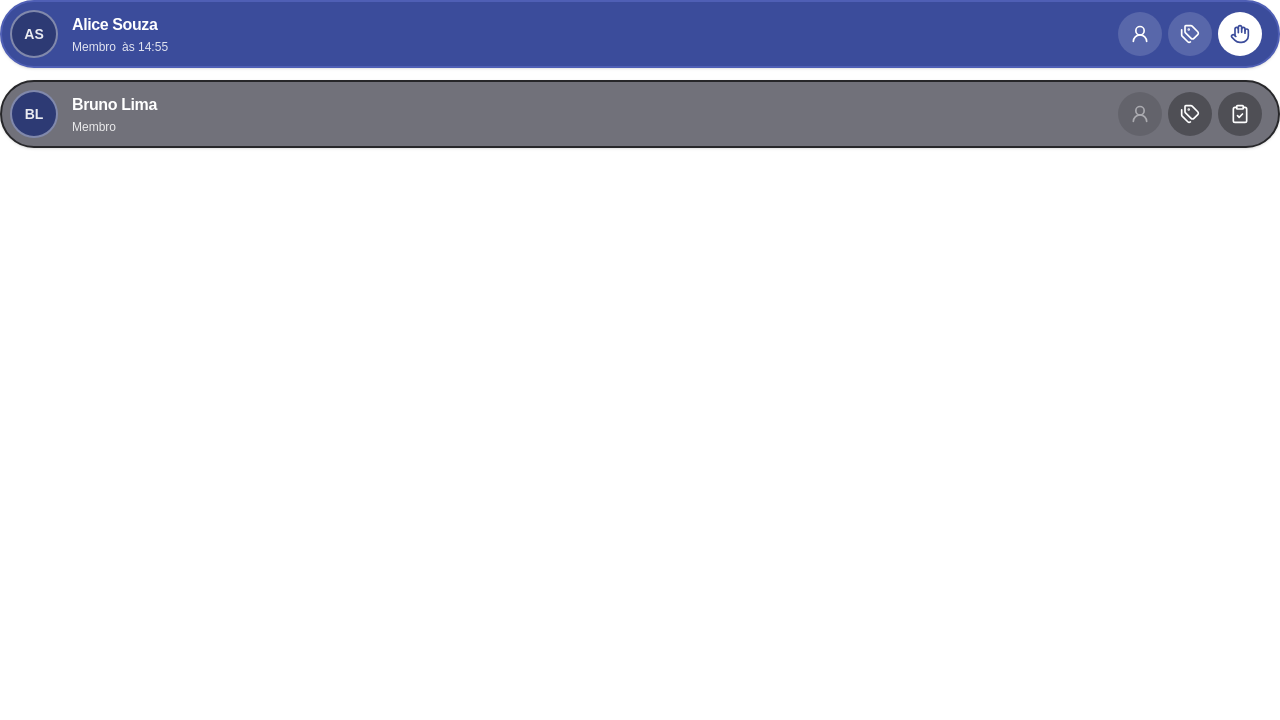
Test: [US09] Integração do AttendancePanel › Deve exibir a recusa do backend e manter o status salvo quando o usuário não é o tutor da sala
Click the button named "Presença de Alice Souza: Presente": (1240, 34) left=1218, top=12, right=1262, bottom=56
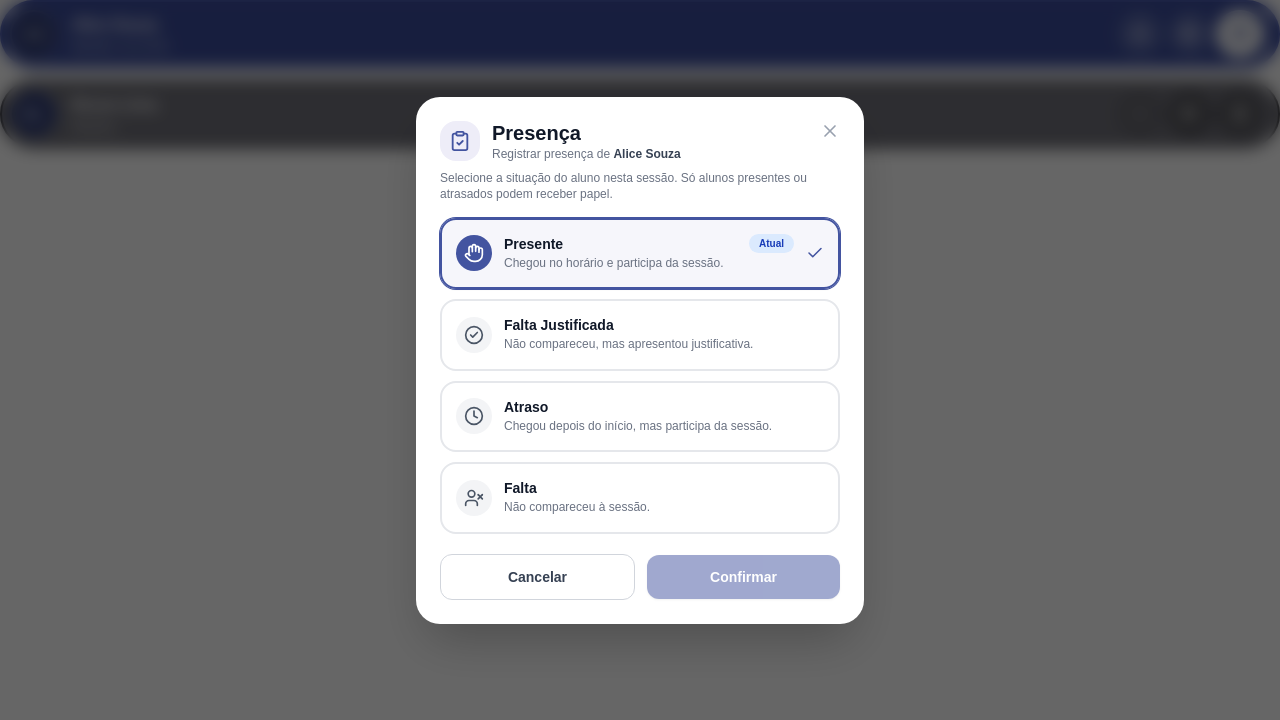
Click the button "Falta Não compareceu à sessão.": (640, 498) left=440, top=462, right=840, bottom=534
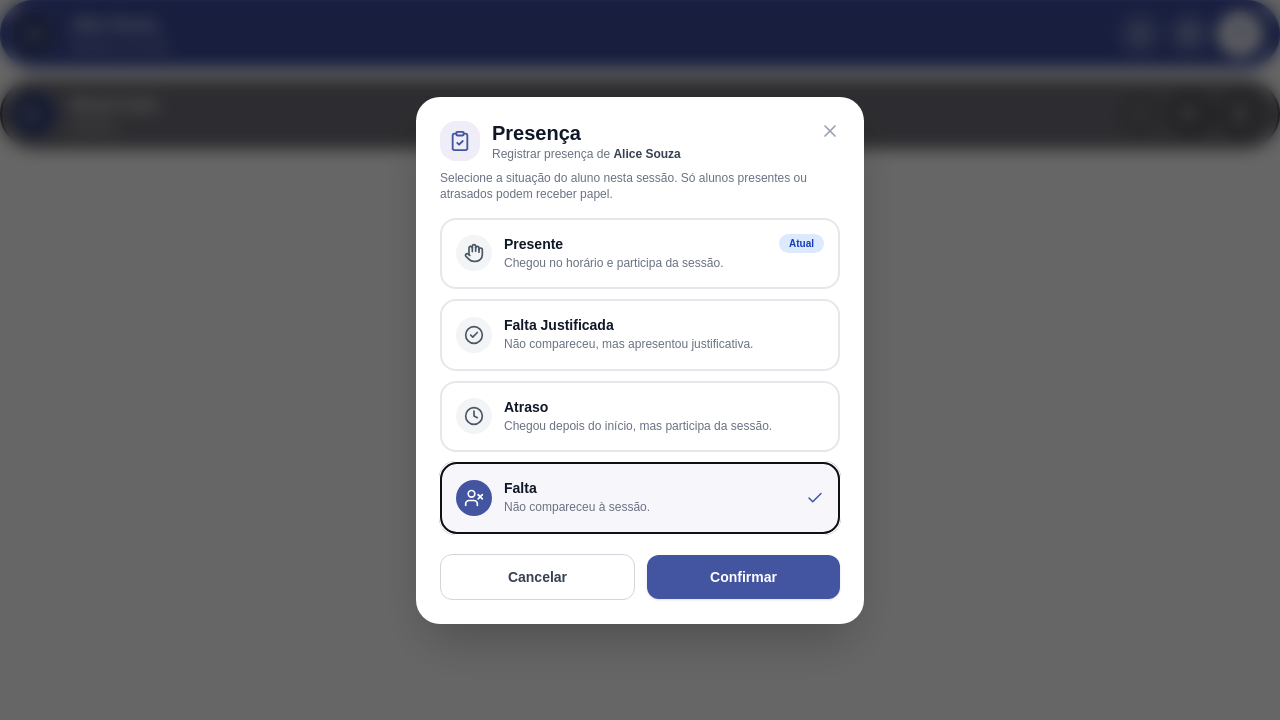
Click the button "Confirmar": (744, 576) left=647, top=554, right=840, bottom=598
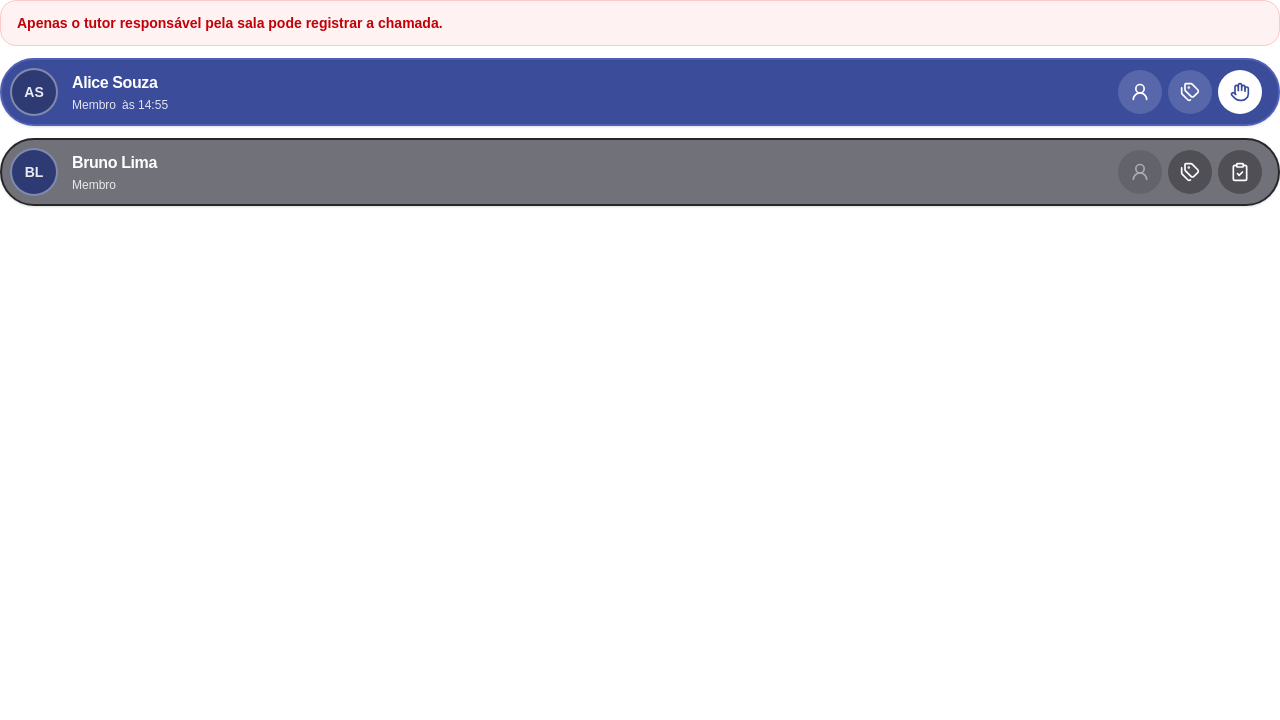
Expected: the text "às 14:55" is shown, left=122, top=97, right=168, bottom=113
Expected: the message shows "Apenas o tutor responsável pela sala pode registrar a chamada", left=17, top=15, right=443, bottom=31
Click the button named "Presença de Alice Souza: Presente": (1240, 92) left=1218, top=70, right=1262, bottom=114
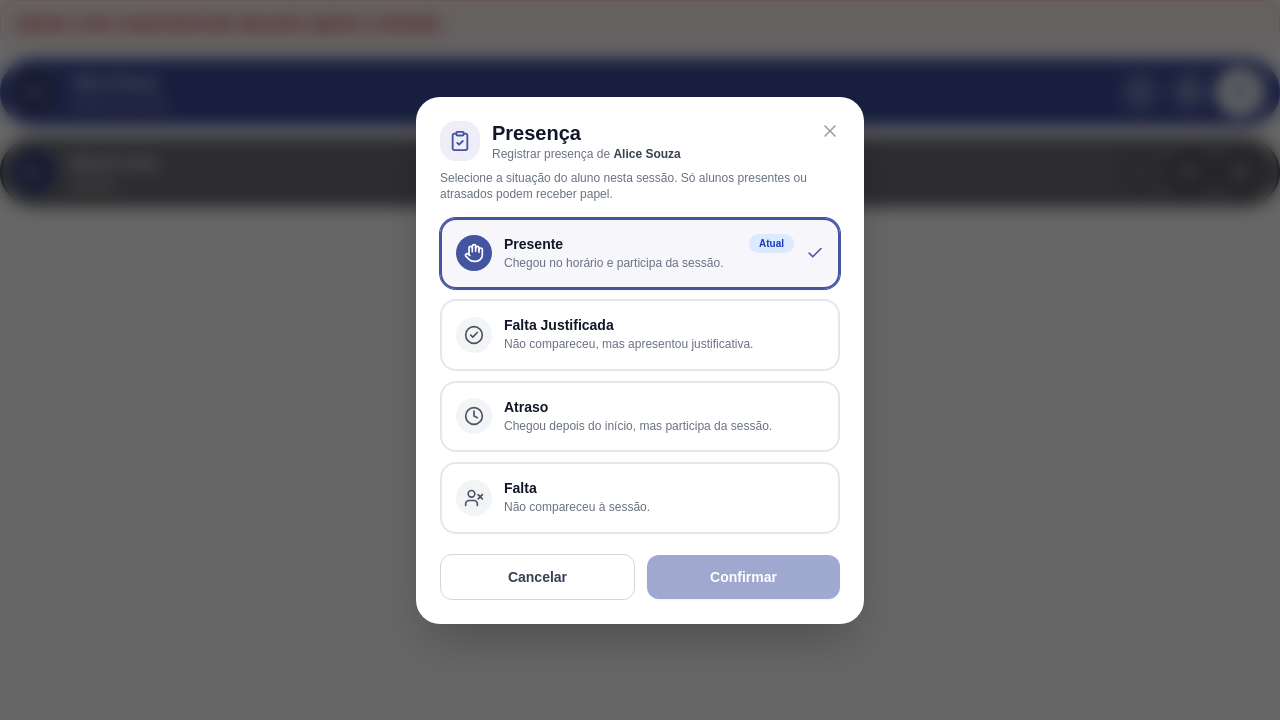
Click the button "Atraso": (640, 416) left=440, top=380, right=840, bottom=452
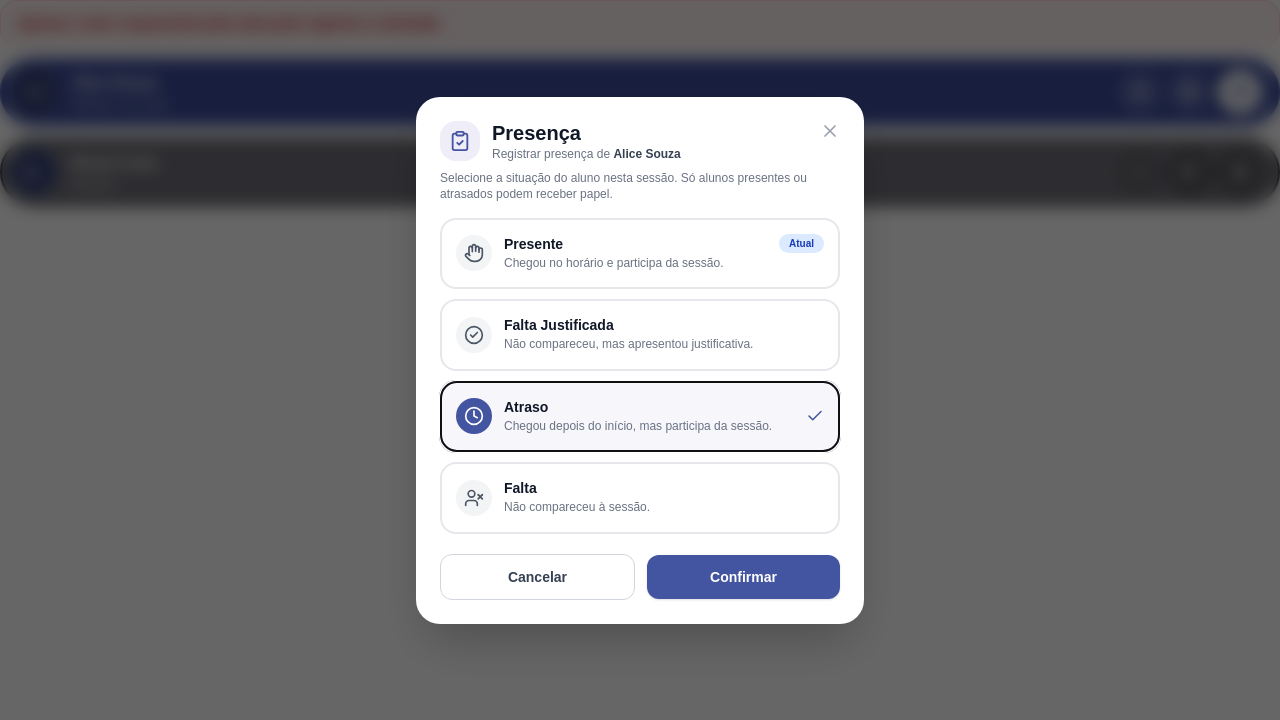
Click the button "Confirmar": (744, 576) left=647, top=554, right=840, bottom=598
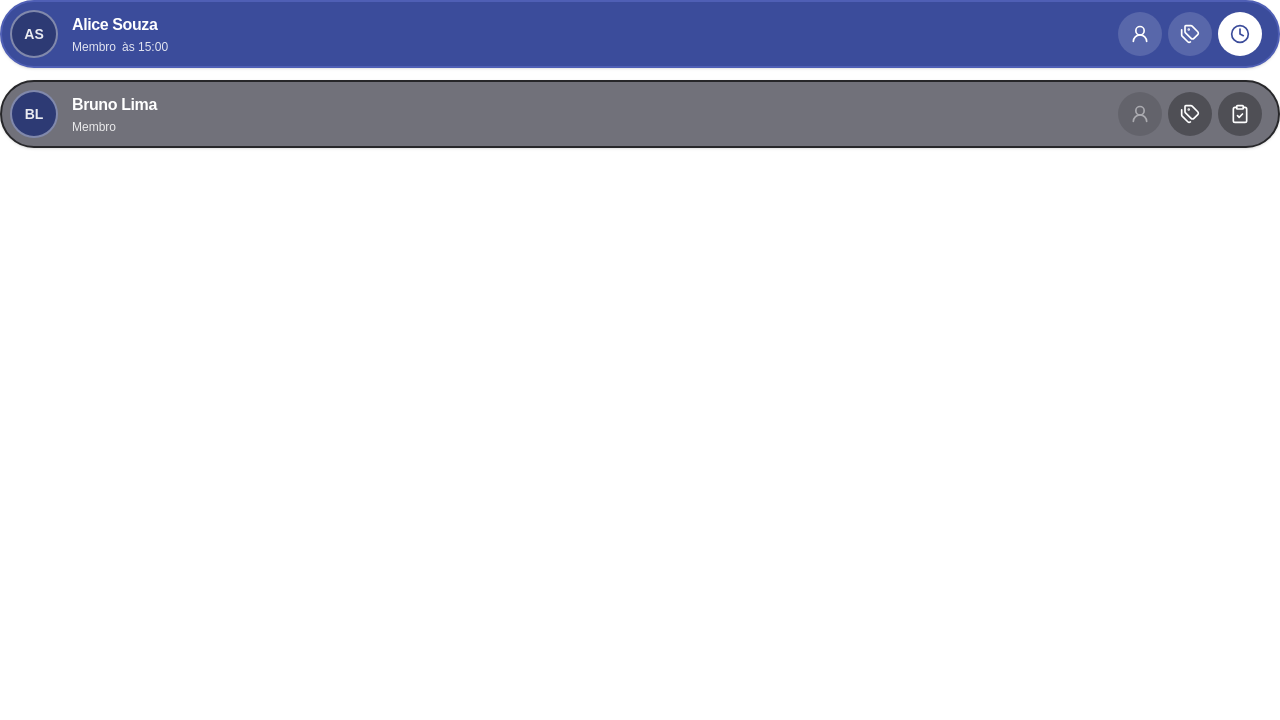
Expected: the text "às 15:00" is shown, left=122, top=39, right=168, bottom=55
Expected: the message "Apenas o tutor responsável pela sala pode registrar a chamada." is gone
